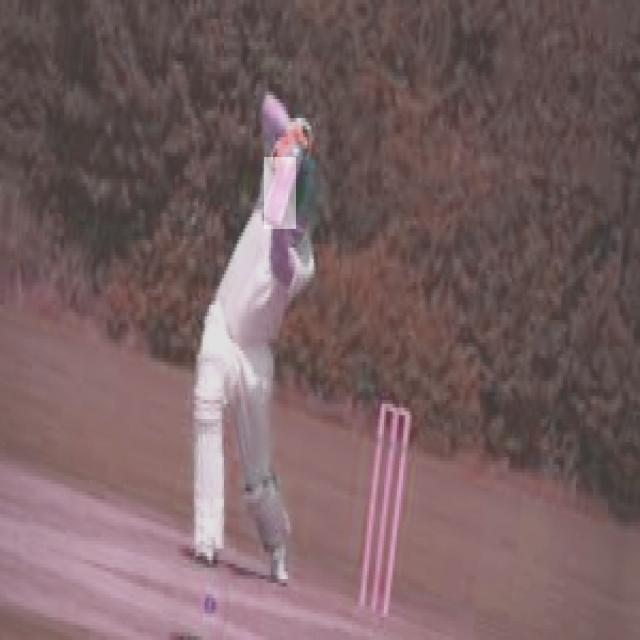bat: (264, 154, 297, 229)
toe: (260, 213, 283, 229)
